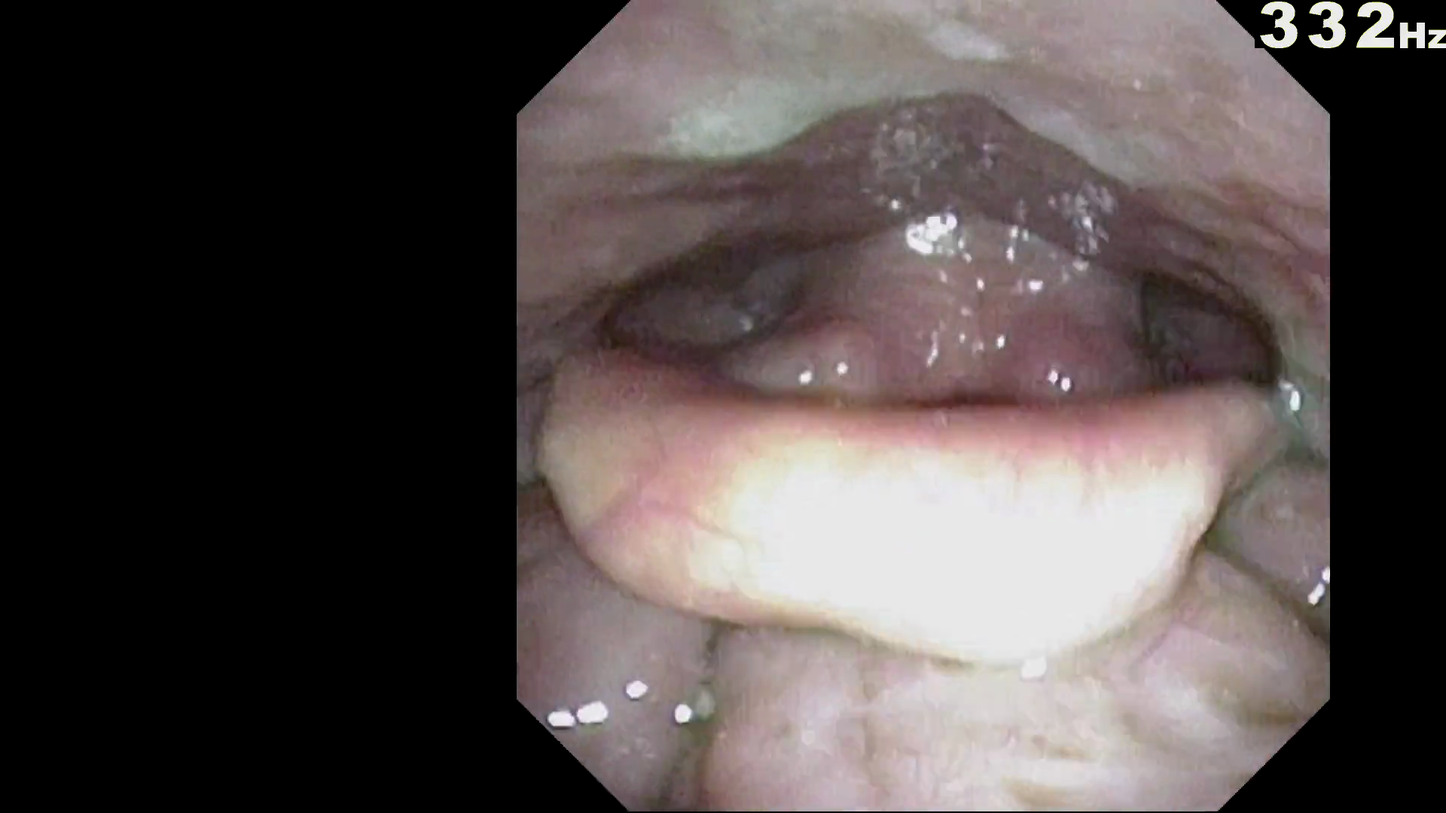epiglottis: (616, 314, 1228, 508)
